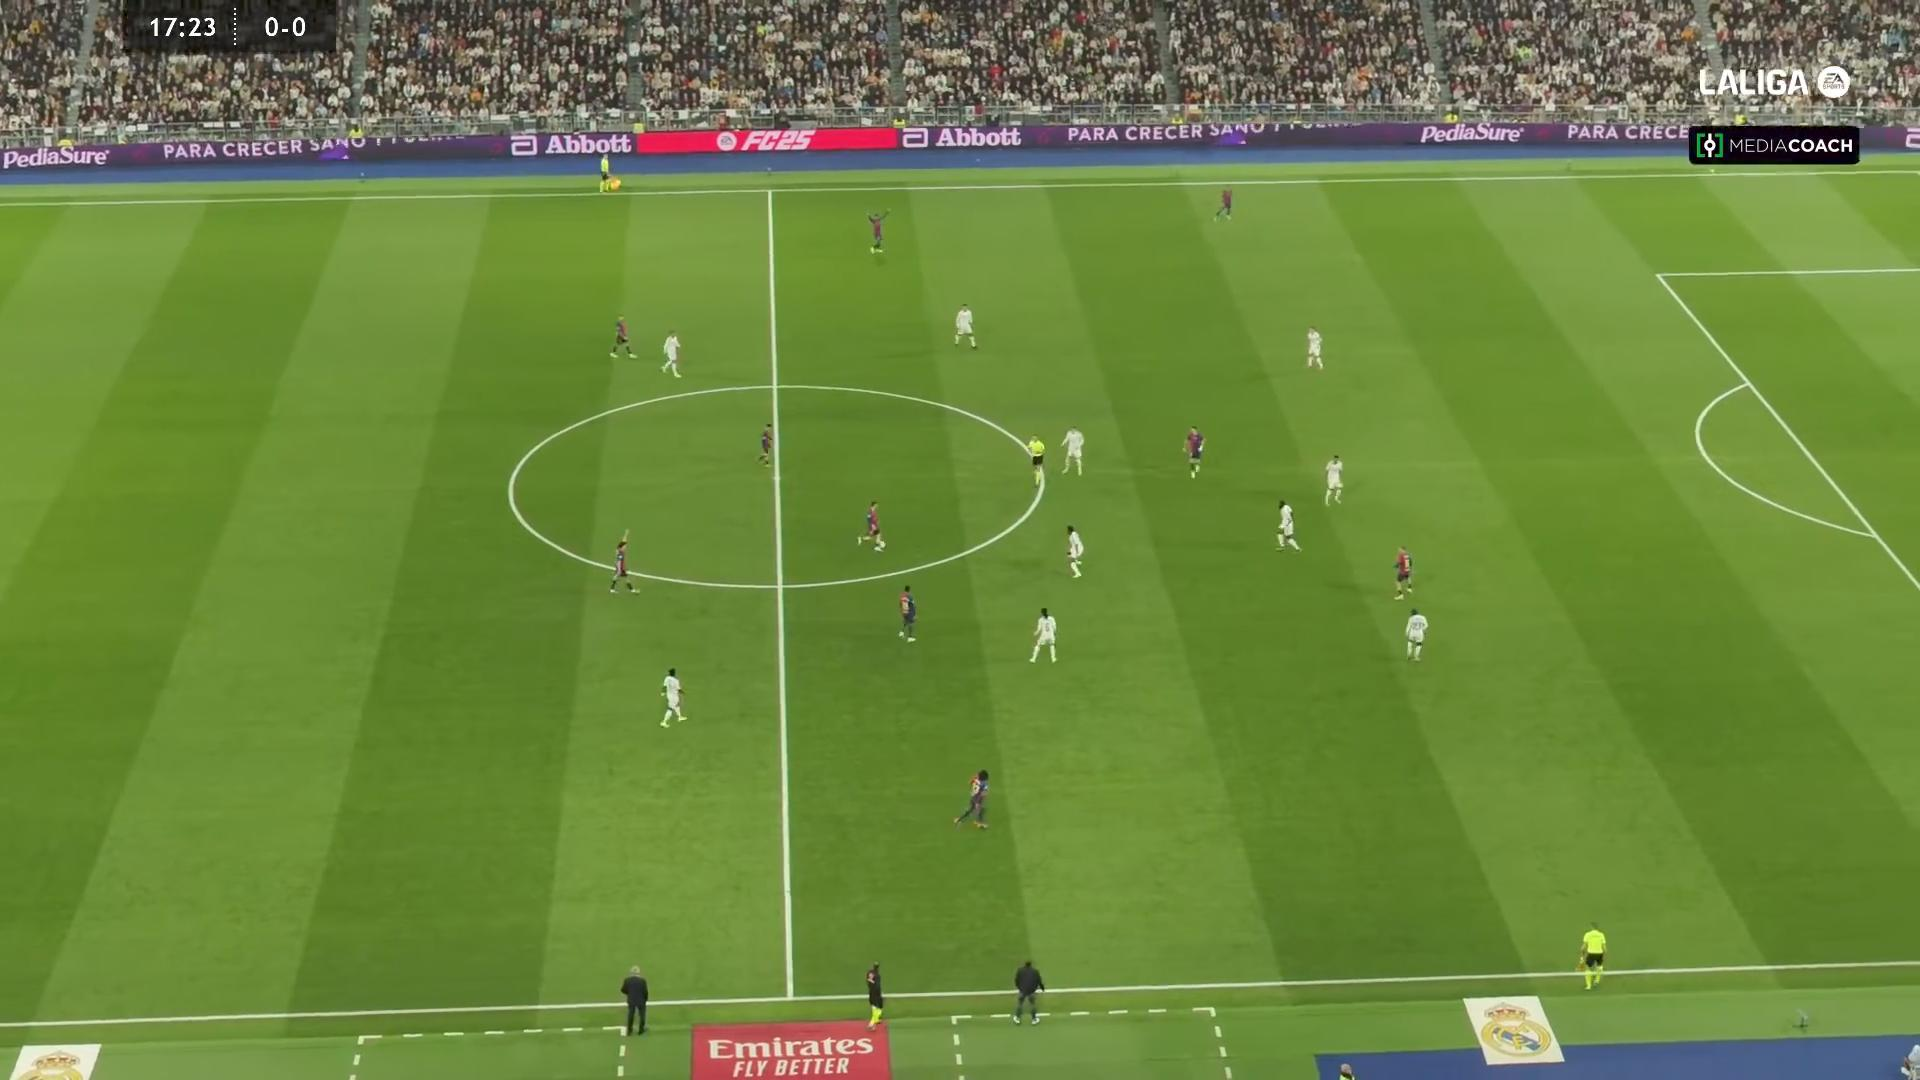player: (952, 768, 990, 829), (608, 529, 639, 593), (658, 666, 688, 727), (1028, 606, 1057, 663), (856, 500, 886, 551), (1274, 500, 1300, 551), (1403, 607, 1427, 661), (1059, 426, 1084, 476), (608, 316, 637, 359), (1181, 425, 1204, 479), (896, 584, 917, 642), (1392, 545, 1414, 600), (952, 302, 977, 349), (1323, 454, 1344, 506), (1064, 524, 1084, 578), (660, 330, 682, 378), (866, 208, 888, 254), (1304, 325, 1324, 370), (757, 422, 773, 466), (1213, 186, 1233, 221)
referee: (1578, 923, 1606, 989), (864, 961, 883, 1029), (1025, 435, 1044, 487), (879, 540, 886, 549)
staff: (1010, 959, 1045, 1025), (619, 963, 647, 1035)
